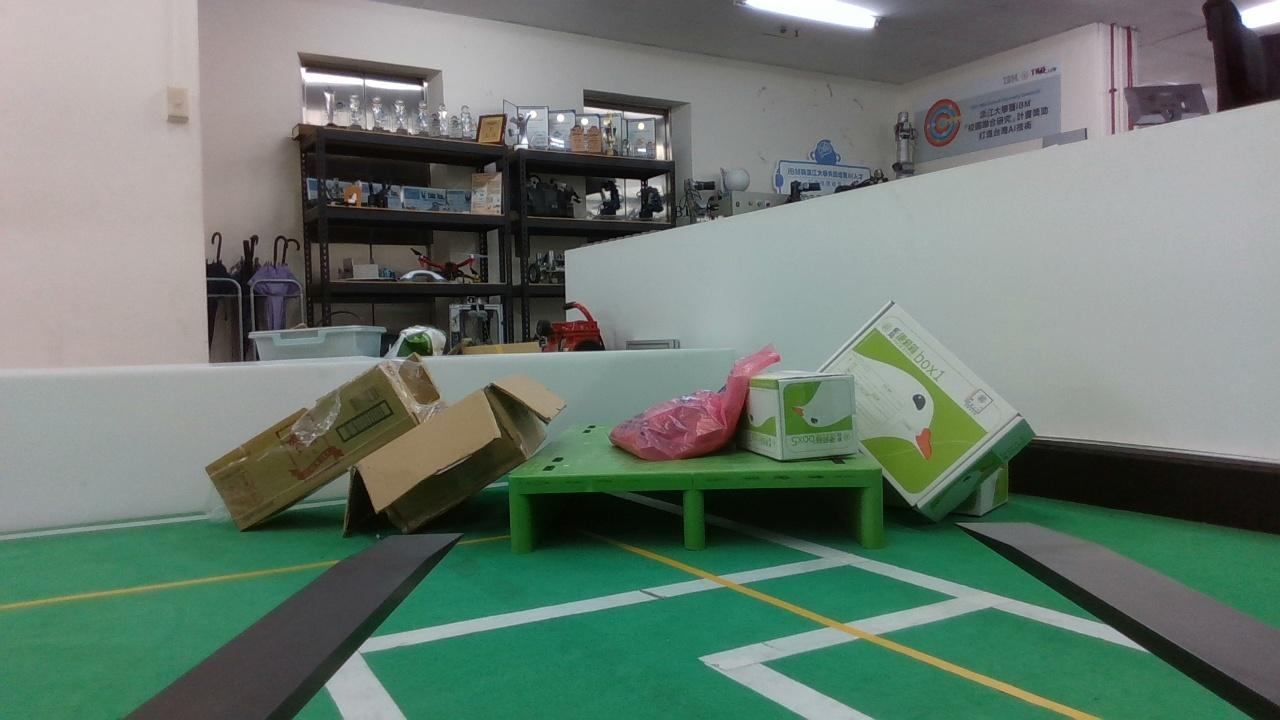Pallet: (510, 467, 888, 551)
